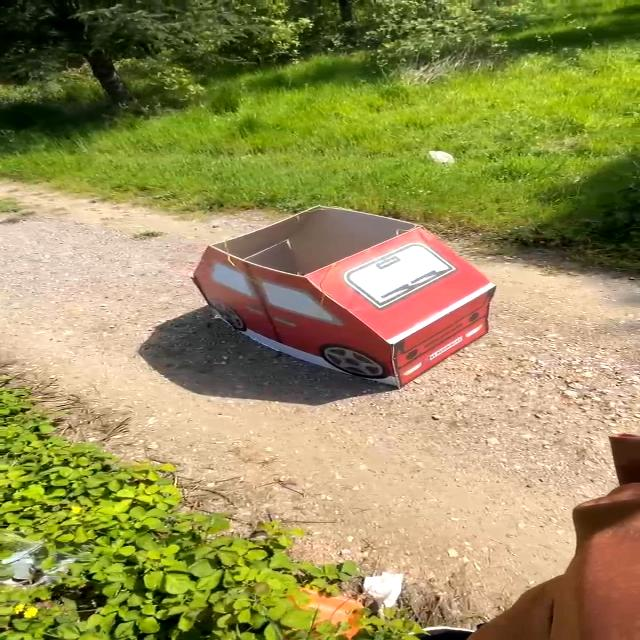red_car: (166, 186, 518, 412)
